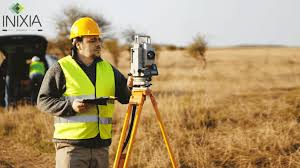casque: (52, 17, 163, 100)
